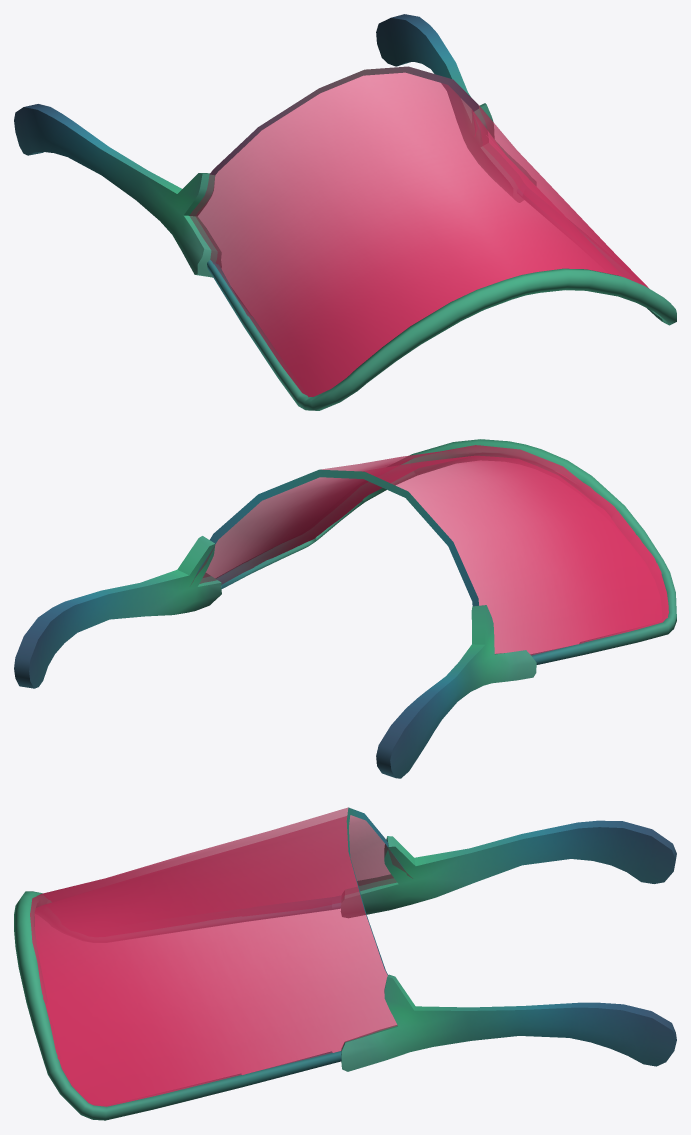
3 renders of one model, top to bottom at view 1: azimuth 30°, elevation 25°; view 2: azimuth 150°, elevation 25°; view 3: azimuth 270°, elevation 25°, orthographic.
Visible parts, largest first — view 1: Wolf3D_Glasses; view 2: Wolf3D_Glasses; view 3: Wolf3D_Glasses.
Part boxes in pixels (box(x1,y1,x2,y2)): Wolf3D_Glasses: box(14, 14, 676, 410); Wolf3D_Glasses: box(14, 439, 676, 778); Wolf3D_Glasses: box(14, 807, 676, 1120).
Size of the model in its own units: 0.174 by 0.0886 by 0.253.
1 material, 1 textured.
